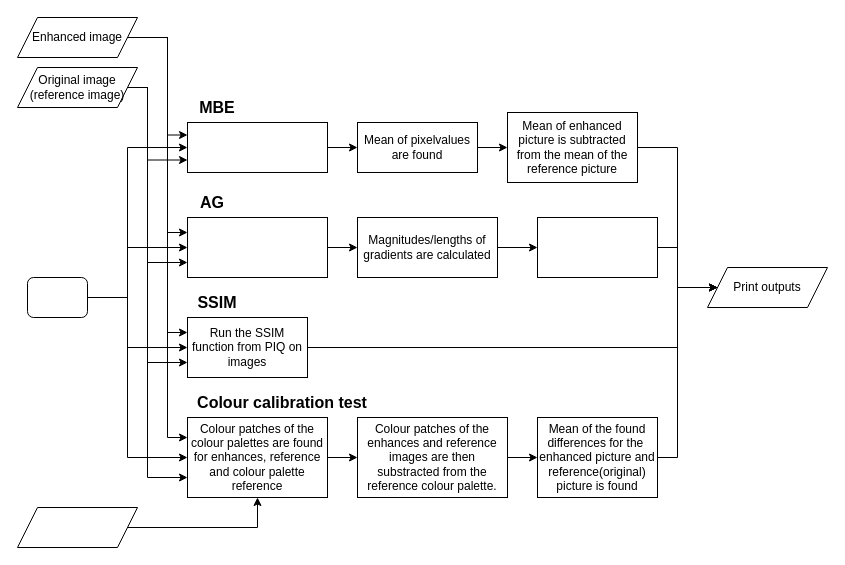
Some shapes in this 845 by 565 pixel diagram are drawn without their labels. Each missing label, with the box of its shape:
Average gradients are then calculated: (536, 216, 658, 278)
Images are converted into grayscale: (186, 122, 328, 172)
Images pixelvalues is converted into gradients using OpenCV's Sobel function: (186, 216, 328, 278)
Reference colour palette: (16, 506, 138, 548)
Start: (26, 276, 88, 318)
